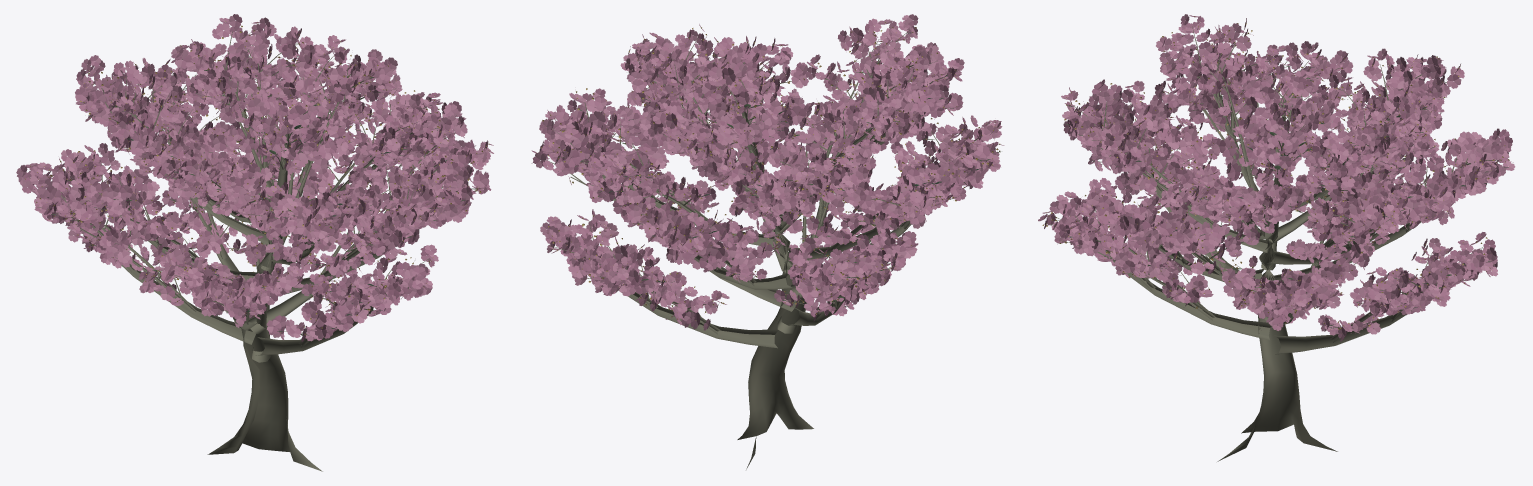
3 renders of one model, left to right at view 1: azimuth 30°, elevation 25°; view 2: azimuth 150°, elevation 25°; view 3: azimuth 270°, elevation 25°, orthographic. The views are drawn at different scales.
Parts seen in each view (by area): view 1: leaves, branches; view 2: leaves, branches; view 3: leaves, branches.
Boxes of the visible parts, x1=… form: leaves: x1=16, y1=14, x2=493, y2=341; branches: x1=29, y1=31, x2=481, y2=471; leaves: x1=531, y1=14, x2=1004, y2=330; branches: x1=546, y1=30, x2=985, y2=469; leaves: x1=1038, y1=14, x2=1515, y2=341; branches: x1=1046, y1=26, x2=1497, y2=461.
Bounding box in the file's own units: 9.15 × 8.06 × 9.28.
